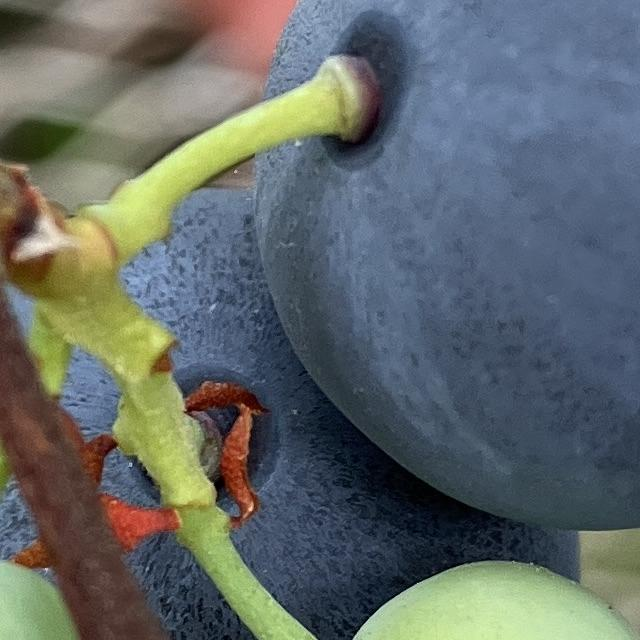Blueberries: (248, 0, 640, 533)
